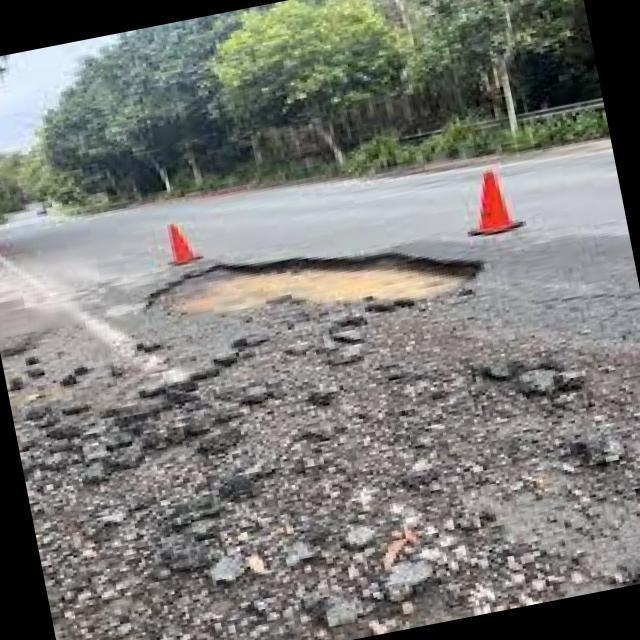Pothole: (158, 255, 482, 317)
